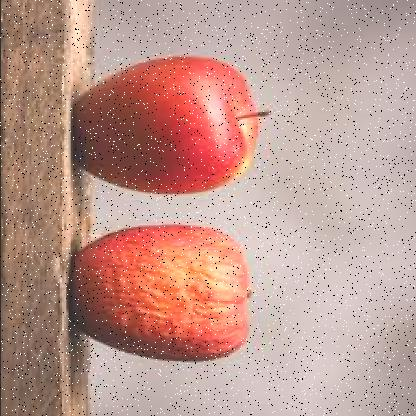apple: (84, 51, 250, 204)
damaged_apple: (63, 223, 248, 360)
